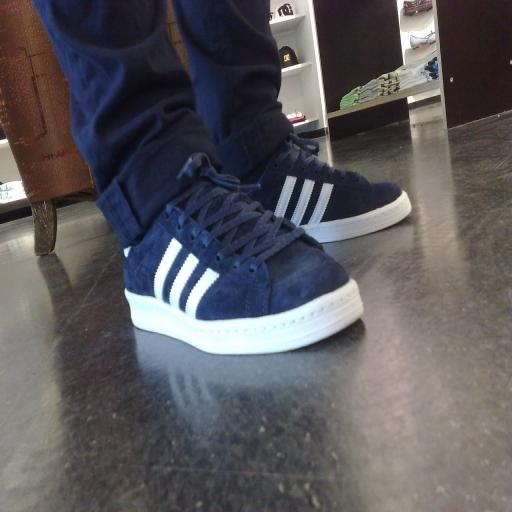shoe: (124, 155, 362, 354), (248, 134, 412, 243), (403, 0, 433, 16), (410, 32, 436, 50)
